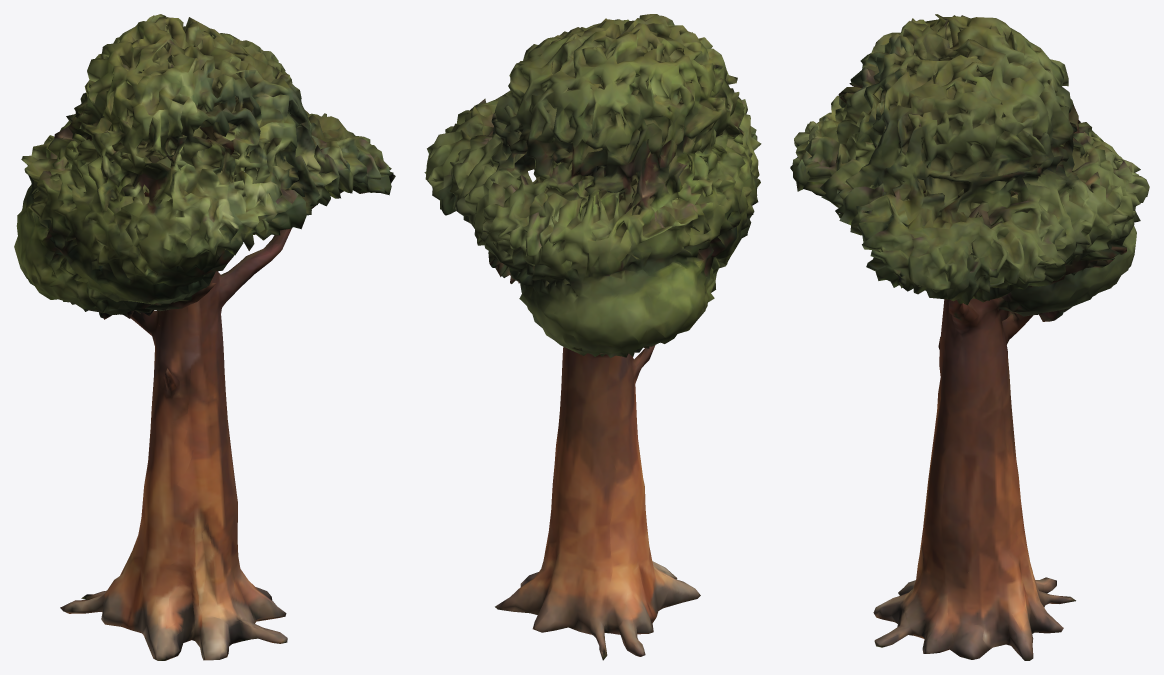
The model's file is AI_WeatheredRedwoodTree.fbx.
3 views of the same model, side by side, from view 1: azimuth 30°, elevation 25°; view 2: azimuth 150°, elevation 25°; view 3: azimuth 270°, elevation 25° (orthographic). The views are drawn at different scales.
Visible parts, largest first — view 1: Mesh_0; view 2: Mesh_0; view 3: Mesh_0.
Boxes of the visible parts, box(x1,y1,x2,y2) form: Mesh_0: box(14, 14, 395, 660); Mesh_0: box(424, 14, 761, 660); Mesh_0: box(790, 14, 1149, 660).
Size of the model in its own units: 106 by 199 by 109.
Materials: 1 (1 with a texture image).
